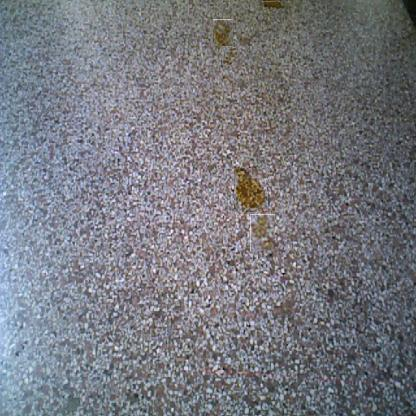liquid: (234, 168, 268, 212), (250, 214, 275, 251), (213, 19, 233, 46), (221, 47, 237, 65), (261, 1, 281, 9)
